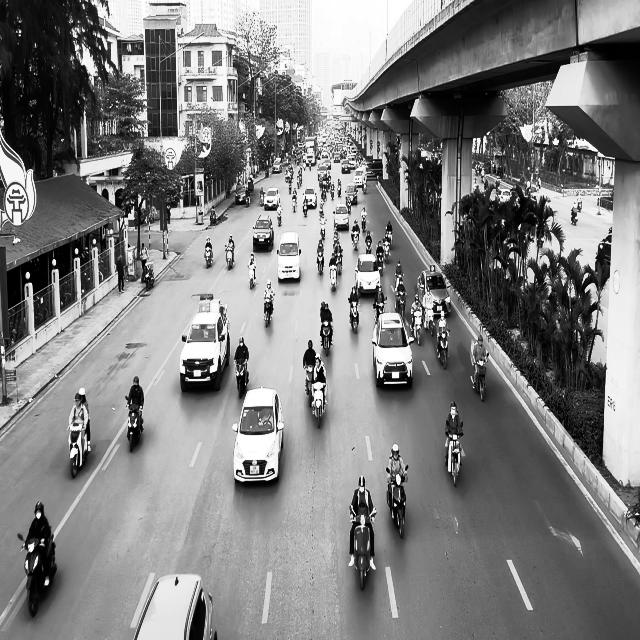car: (133, 574, 217, 640), (232, 386, 284, 484), (179, 294, 230, 392), (371, 312, 414, 388), (416, 268, 451, 316), (276, 231, 301, 282), (354, 253, 380, 296), (252, 215, 274, 251), (595, 228, 612, 270), (333, 203, 349, 229), (263, 187, 280, 210), (234, 185, 250, 206), (303, 186, 317, 208), (345, 183, 357, 205)
motorbike: (17, 531, 57, 617), (349, 505, 376, 590), (386, 465, 408, 539), (68, 418, 90, 478), (445, 422, 464, 486), (125, 395, 144, 452), (471, 355, 488, 401), (311, 382, 327, 428), (436, 330, 451, 369), (235, 358, 249, 398), (320, 321, 333, 356), (348, 297, 360, 333), (304, 364, 314, 406), (373, 296, 387, 325), (411, 310, 422, 345), (263, 295, 274, 327), (144, 262, 154, 289), (224, 244, 234, 270), (329, 264, 337, 291), (316, 249, 324, 275), (204, 247, 213, 269), (248, 266, 256, 289), (351, 229, 359, 250), (570, 209, 578, 225), (320, 219, 326, 240), (277, 205, 282, 226)
